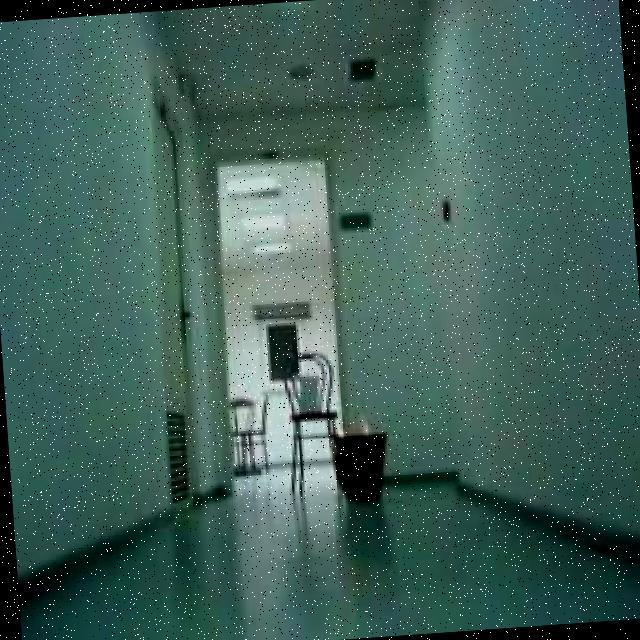Fire: (346, 421, 377, 435)
